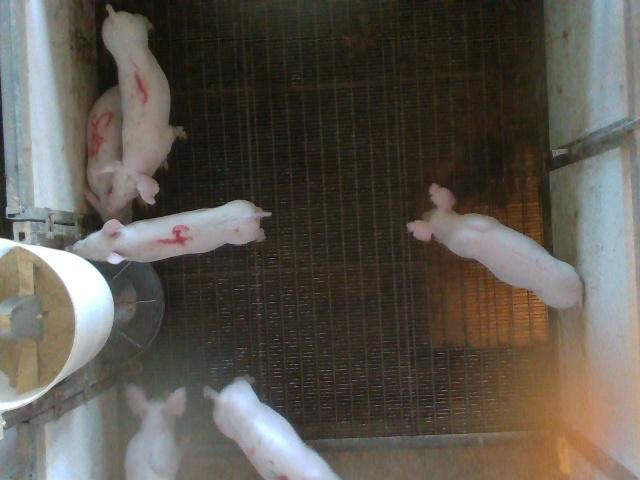pig-1: (102, 5, 186, 209)
pig-3: (205, 378, 340, 479)
pig-4: (69, 200, 271, 263)
pig-5: (85, 86, 131, 222)
